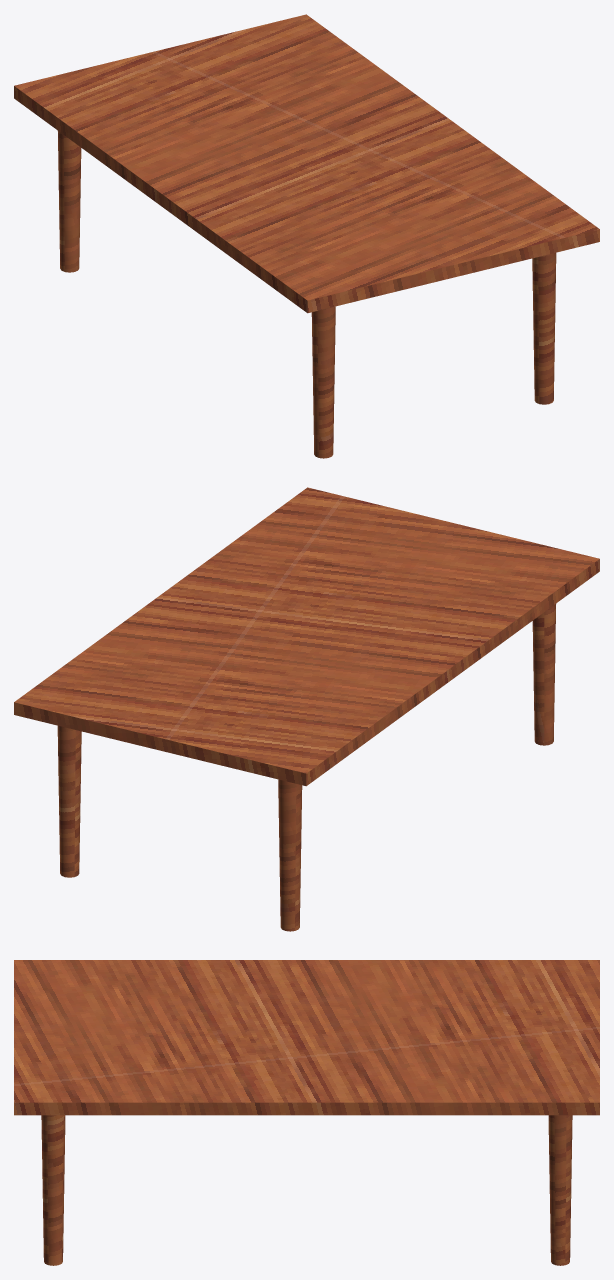
Rendered from old_table.glb.
The picture shows the model from 3 angles, top to bottom: view 1: azimuth 30°, elevation 25°; view 2: azimuth 150°, elevation 25°; view 3: azimuth 270°, elevation 25°; orthographic projection.
Visible parts, largest first — view 1: Cube; view 2: Cube; view 3: Cube.
Boxes of the visible parts, <box> form: Cube: <box>14,14,599,458</box>; Cube: <box>14,487,599,931</box>; Cube: <box>14,960,599,1265</box>.
Bounding box in the file's own units: 0.5913 × 0.3422 × 1.03.
Materials: 1 (1 with a texture image).
